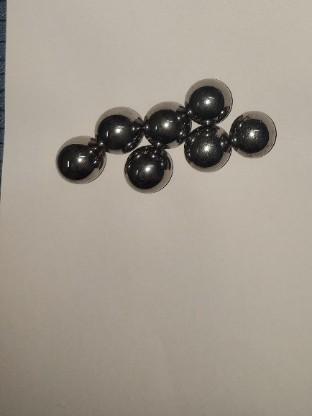ironball: (227, 108, 277, 160), (55, 134, 107, 184), (142, 96, 194, 145), (93, 103, 142, 154), (182, 75, 230, 125), (122, 145, 169, 196), (185, 127, 228, 175)
